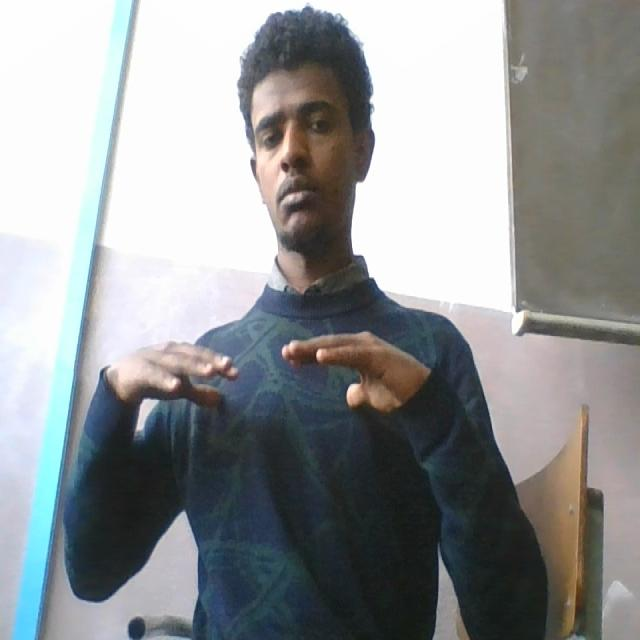meznanat: (97, 322, 432, 436)
